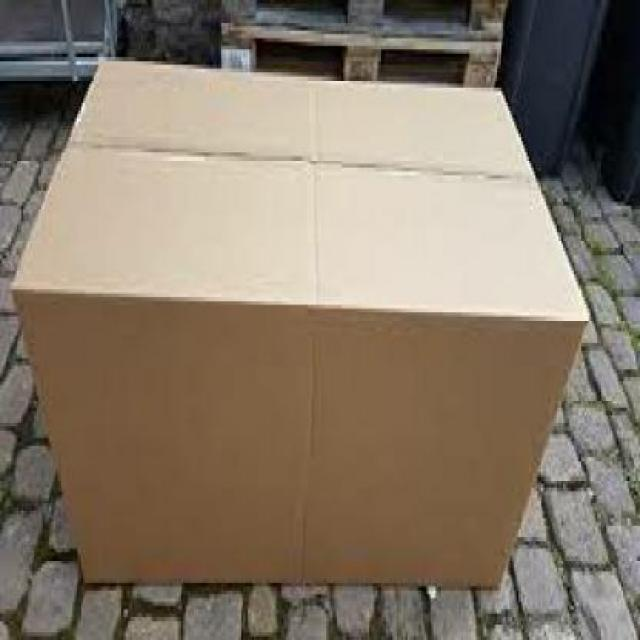box: (6, 42, 591, 613)
